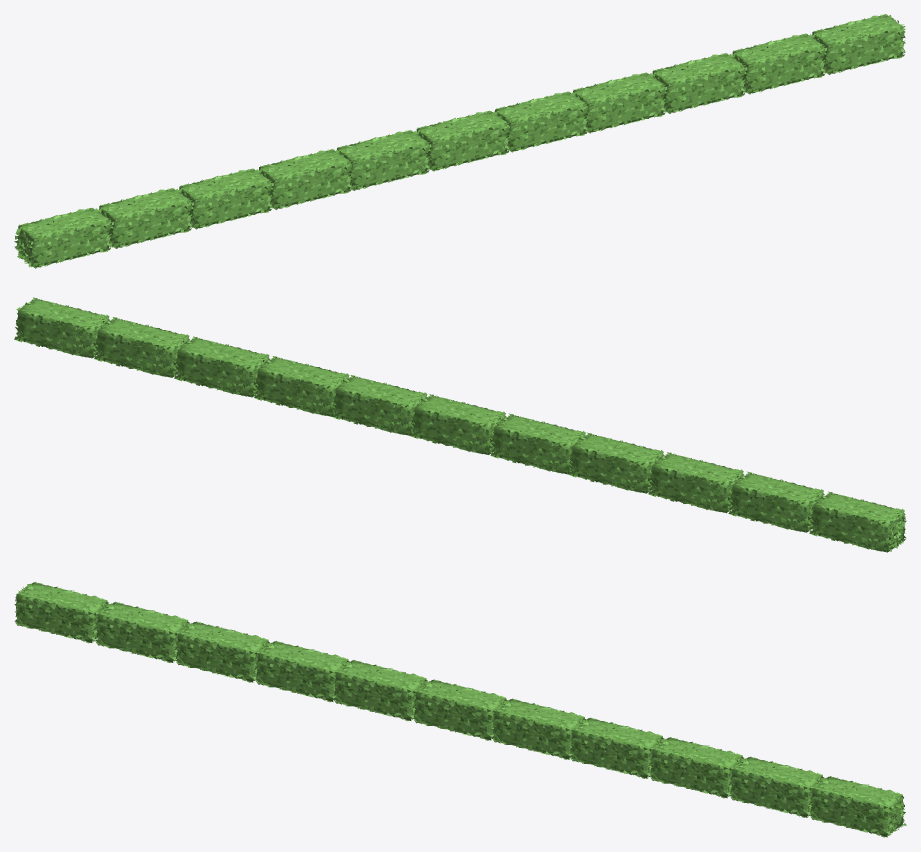
File: BUSH12.fbx
3 views of the same model, one above another, from view 1: azimuth 30°, elevation 25°; view 2: azimuth 150°, elevation 25°; view 3: azimuth 330°, elevation 25° (orthographic).
Parts seen in each view (by area): view 1: Cube.111; view 2: Cube.111; view 3: Cube.111.
Part boxes in pixels (x1,y1,x2,y2): Cube.111: [14, 14, 905, 268]; Cube.111: [14, 297, 906, 552]; Cube.111: [14, 582, 906, 837].
Bounding box in the file's own units: 40712 × 1469 × 1482.
